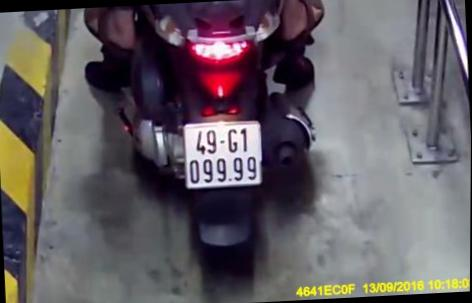LP: (185, 120, 262, 189)
